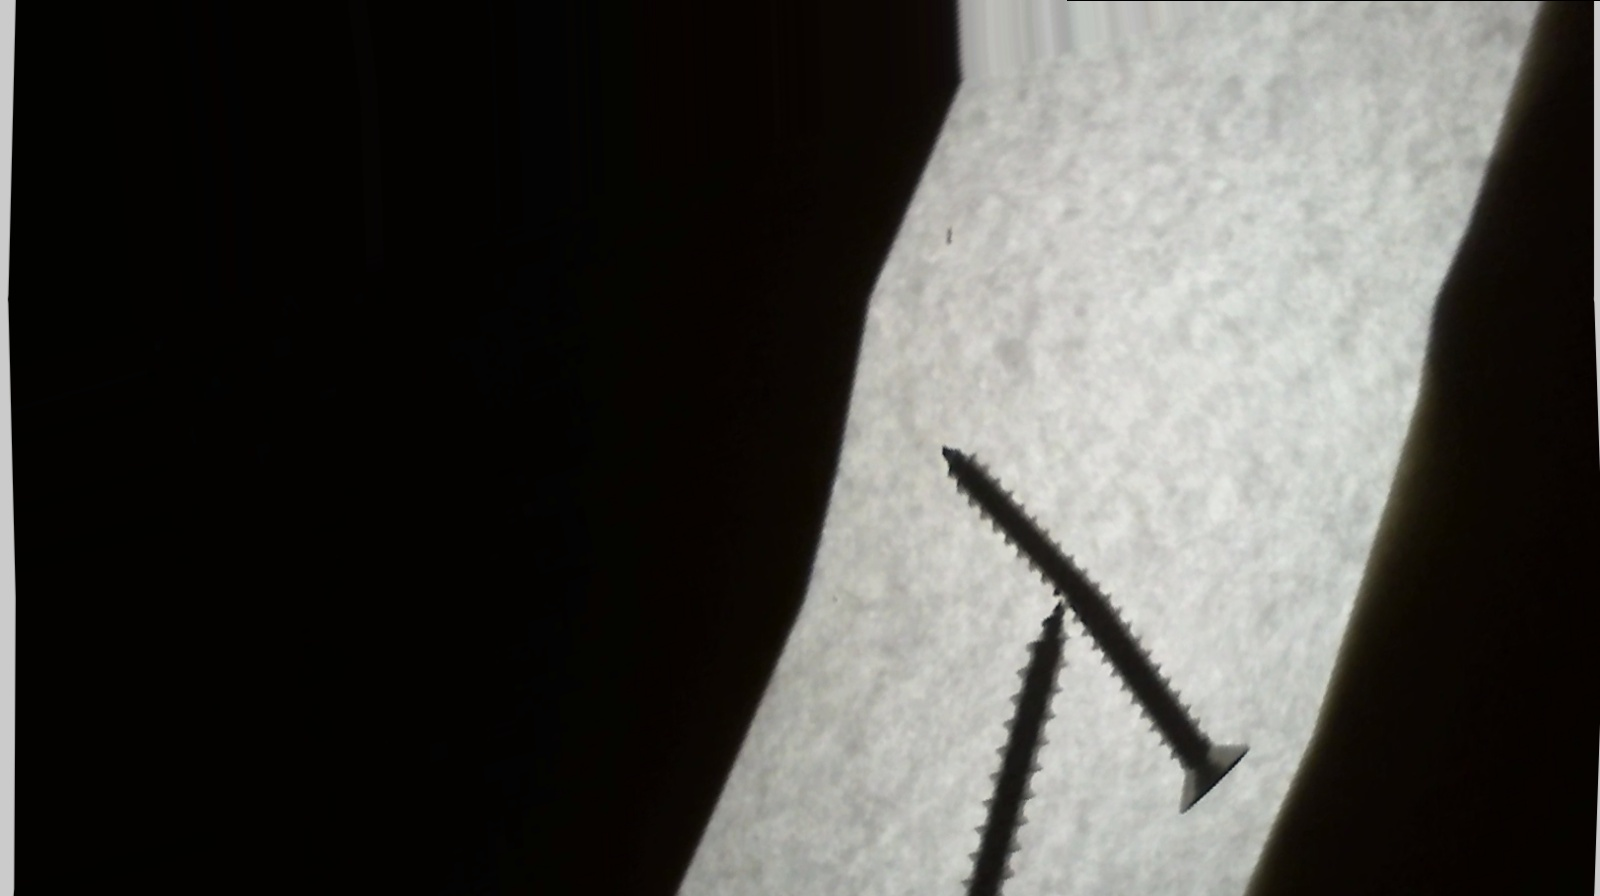S001: (908, 594, 1092, 895)
S002: (938, 369, 1252, 874)
